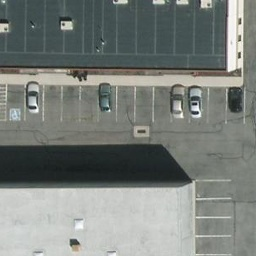car: (99, 82, 113, 115), (171, 84, 185, 117), (189, 85, 203, 118), (228, 83, 242, 116), (226, 81, 240, 114), (26, 82, 40, 114)
